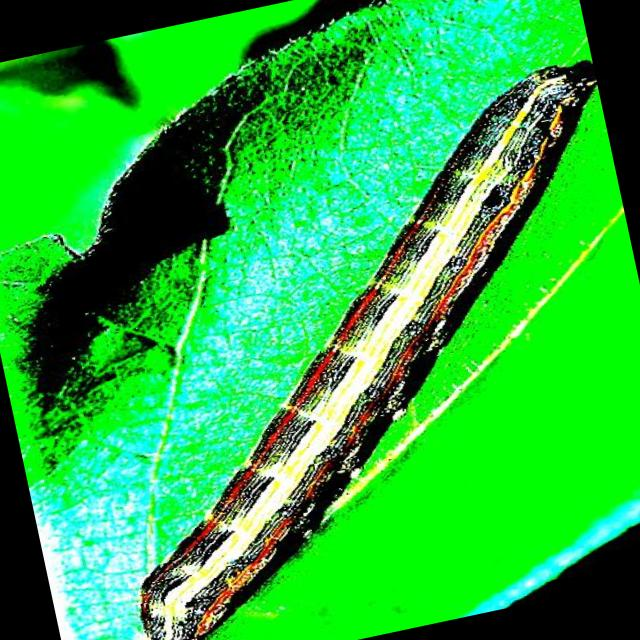Armyworm: (1, 42, 640, 640)
